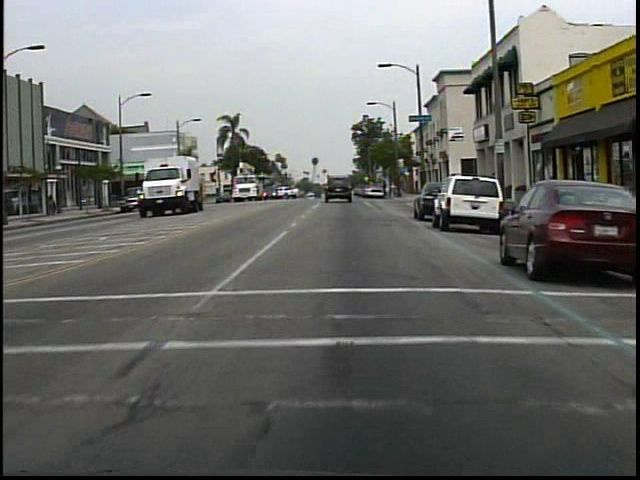person: (48, 193, 58, 218)
